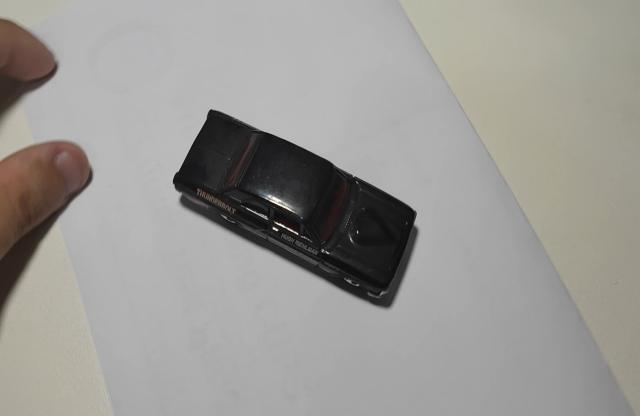01_FORD: (171, 110, 419, 310)
